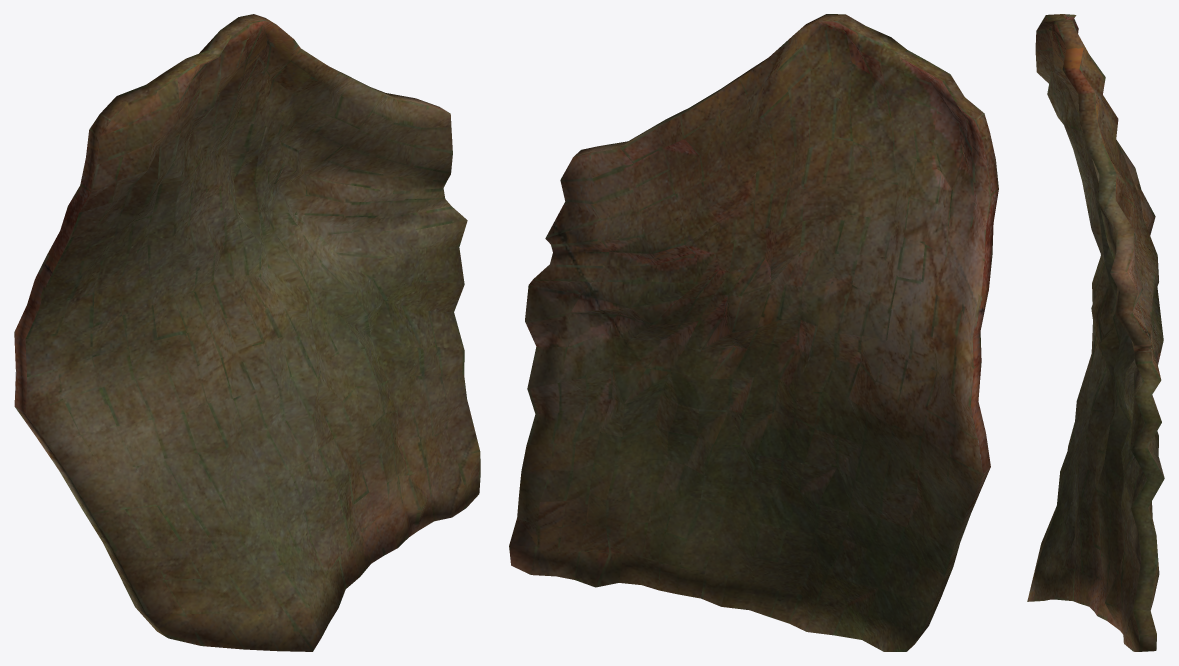
Rendered from MetallStück_2.fbx.
3 views of the same model, side by side, from view 1: azimuth 30°, elevation 25°; view 2: azimuth 150°, elevation 25°; view 3: azimuth 270°, elevation 25° (orthographic). The views are drawn at different scales.
Visible parts, largest first — view 1: MetallSt_ck_2; view 2: MetallSt_ck_2; view 3: MetallSt_ck_2.
Part boxes in pixels (box(x1,y1,x2,y2)): MetallSt_ck_2: box(14, 14, 480, 651); MetallSt_ck_2: box(509, 14, 998, 651); MetallSt_ck_2: box(1027, 14, 1164, 651).
Size of the model in its own units: 0.7415 by 0.9594 by 0.2138.
Materials: 1 (1 with a texture image).
